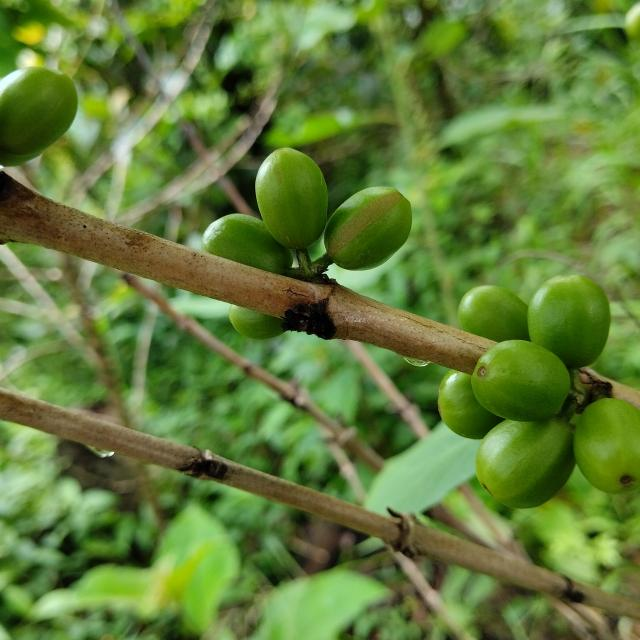green: (476, 418, 576, 509), (472, 340, 571, 422), (528, 275, 612, 369), (0, 65, 77, 166), (255, 147, 328, 249), (324, 186, 412, 270), (574, 399, 640, 495), (201, 213, 293, 274), (439, 370, 505, 440), (459, 285, 531, 342), (229, 305, 284, 340)
